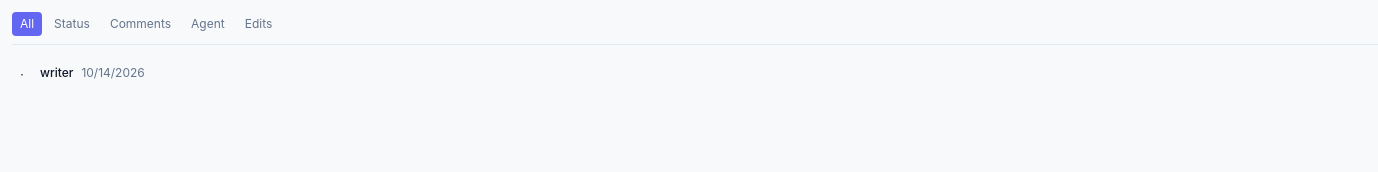
Test: activity row display boundaries › preserves legacy entries with no body and filters them out of Comments
This screenshot has width=1378, height=172.
Check: the number of elements with test id "activity-entry" is 1, box [20,65,145,82]
Click the button with test id "filter-comment".
click(140, 24)  # box [102,12,179,36]
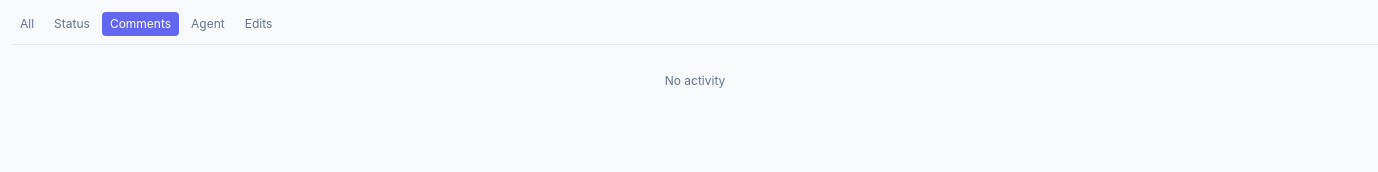
Check: the text "No activity" is shown, box [665,73,725,88]
